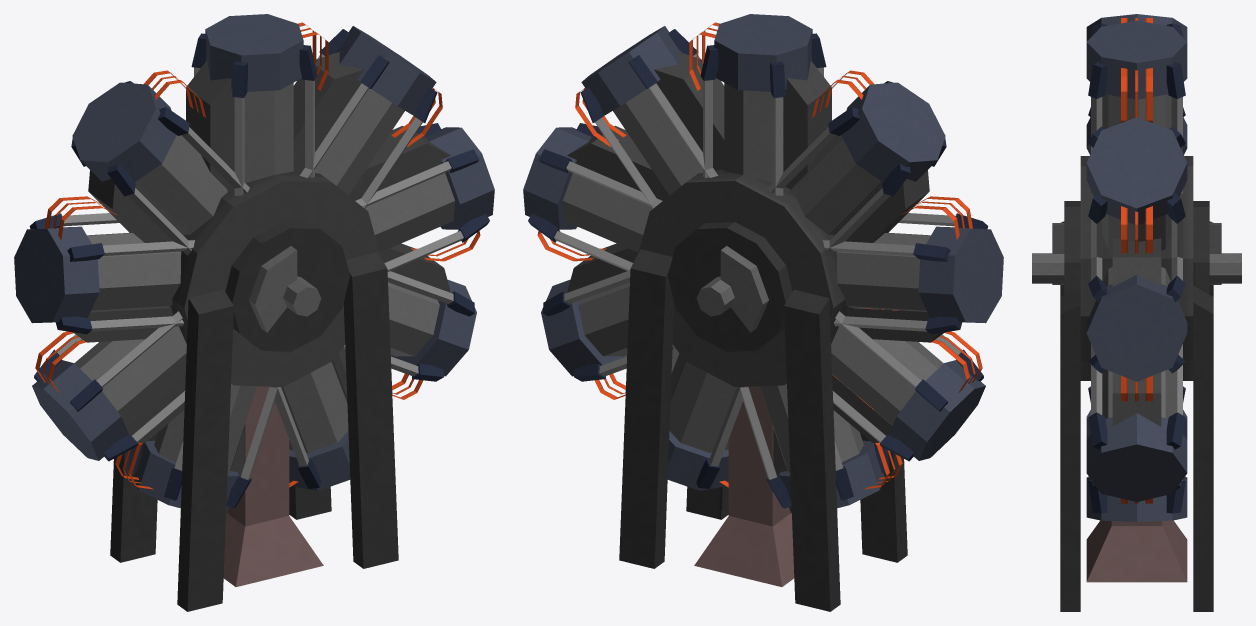
Rendered from selenium_item.obj.
3 views of the same model, side by side, from view 1: azimuth 30°, elevation 25°; view 2: azimuth 150°, elevation 25°; view 3: azimuth 270°, elevation 25° (orthographic).
Size of the model in its own units: 1.58 by 1.77 by 0.65.
